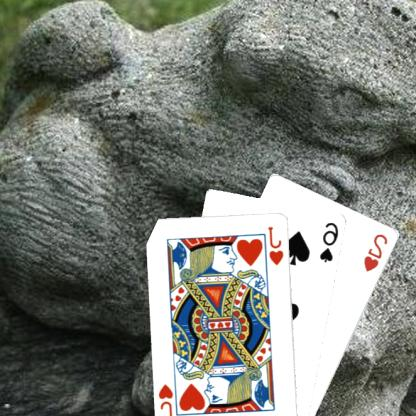2H: (363, 231, 392, 273)
6S: (319, 219, 342, 264)
JH: (267, 224, 287, 266), (158, 381, 177, 416)
